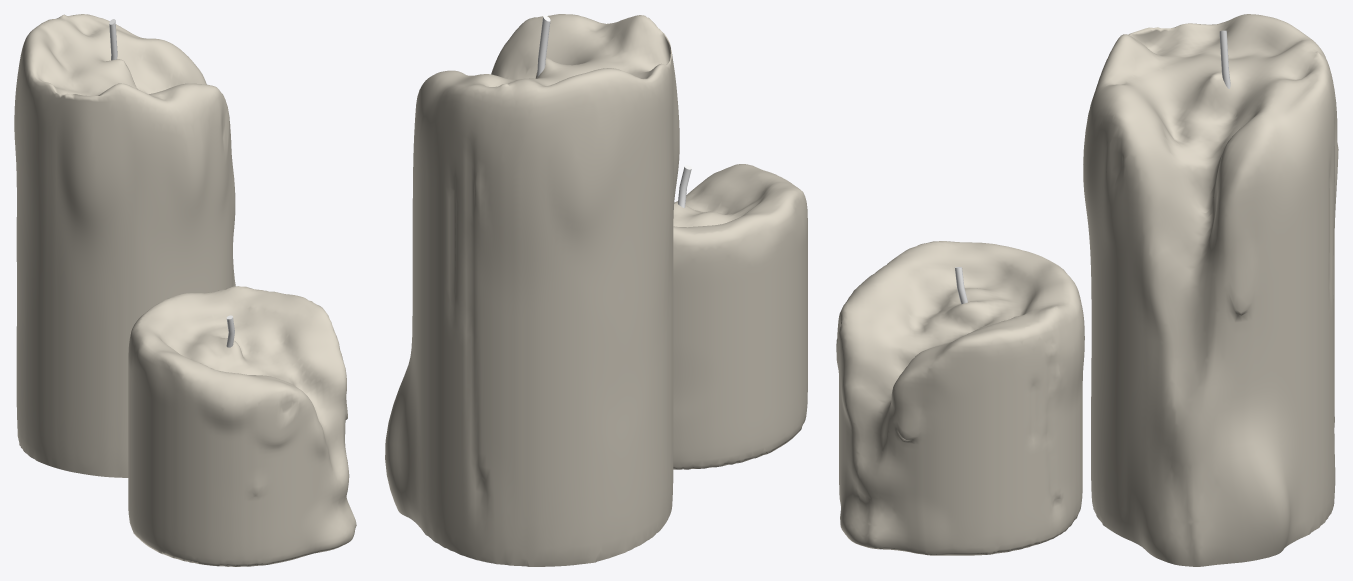
The model's file is candle2.glb.
3 renders of one model, left to right at view 1: azimuth 30°, elevation 25°; view 2: azimuth 150°, elevation 25°; view 3: azimuth 270°, elevation 25°, orthographic. The views are drawn at different scales.
Size of the model in its own units: 2.23 by 4.24 by 4.08.
